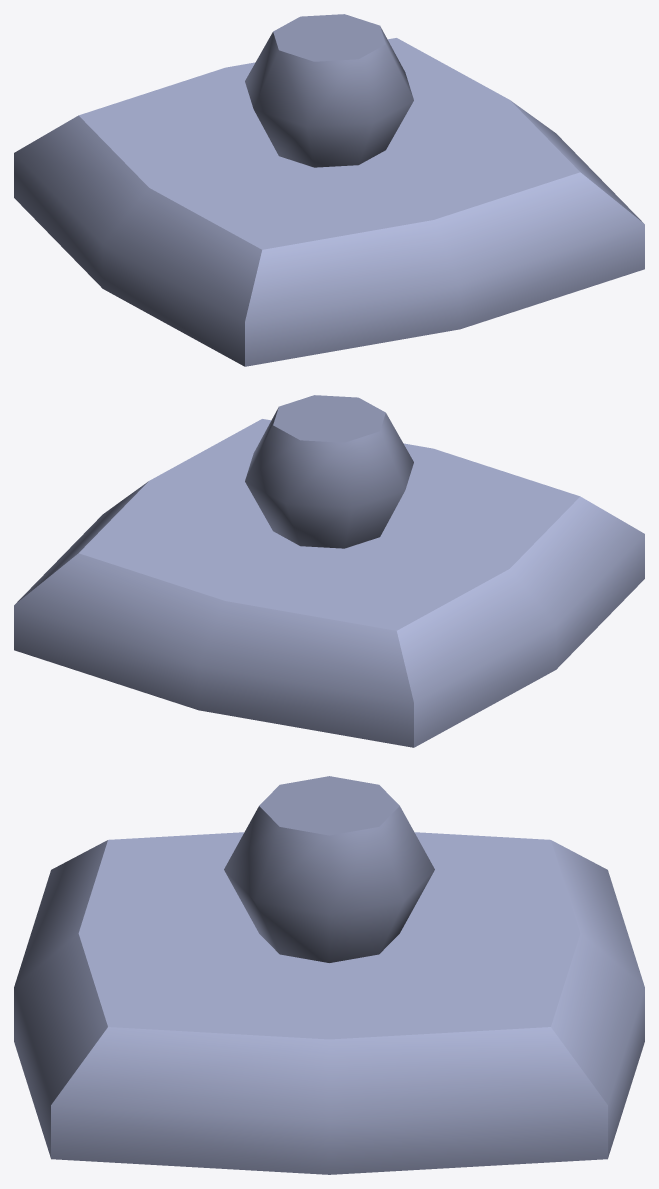
The model's file is lid_lev2.glb.
3 views of the same model, one above another, from view 1: azimuth 30°, elevation 25°; view 2: azimuth 150°, elevation 25°; view 3: azimuth 270°, elevation 25° (orthographic). The views are drawn at different scales.
Visible parts, largest first — view 1: lid_lev2; view 2: lid_lev2; view 3: lid_lev2.
Boxes of the visible parts, bbox=[...] form: lid_lev2: bbox=[14, 14, 644, 366]; lid_lev2: bbox=[14, 395, 644, 747]; lid_lev2: bbox=[14, 776, 644, 1174].
Size of the model in its own units: 0.2644 by 0.109 by 0.2644.
Materials: 1 (1 with a texture image).
